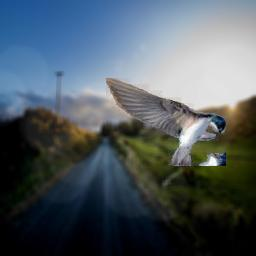Swallow: (106, 78, 226, 166)
